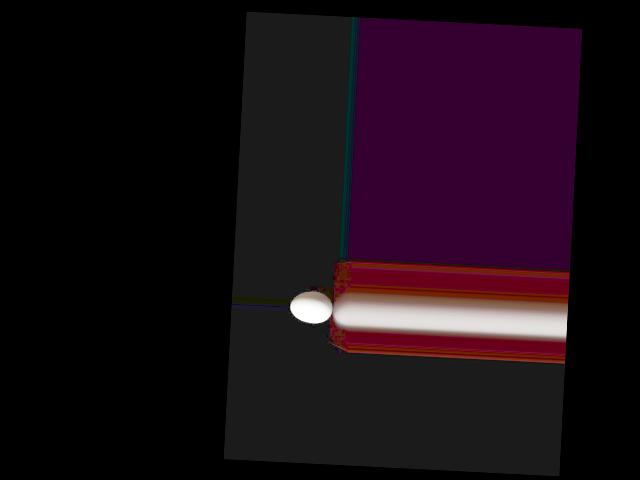egg: (289, 291, 333, 324)
